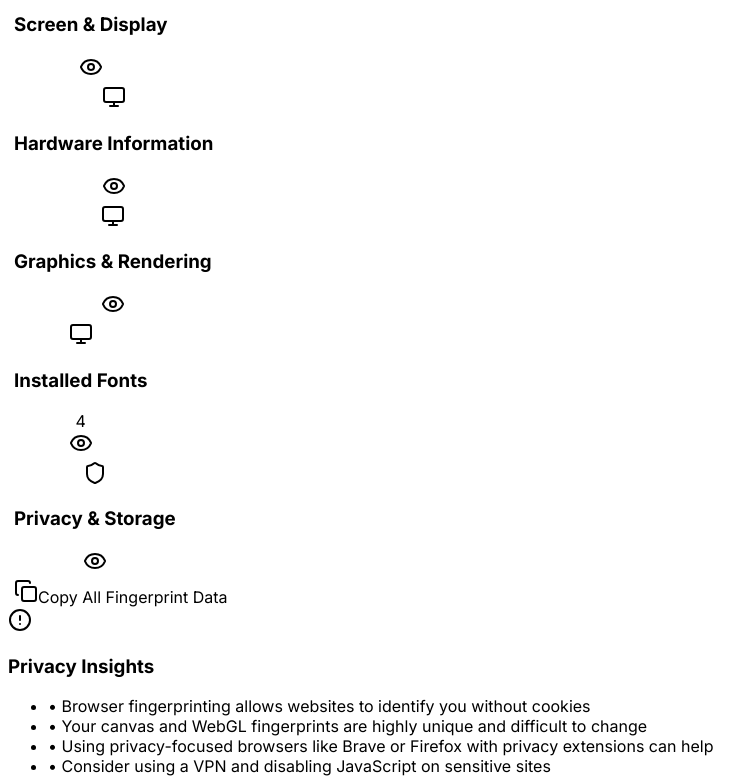
Scenario: Browser Fingerprint Page - Component Tests › should display fonts when section is expanded
The image size is (730, 777).
(page scrolled)
Check: the heading "Installed Fonts" is shown, box [14,369,147,392]
Click the button "Installed Fonts 4" at (81, 390), box [8,321,153,460]
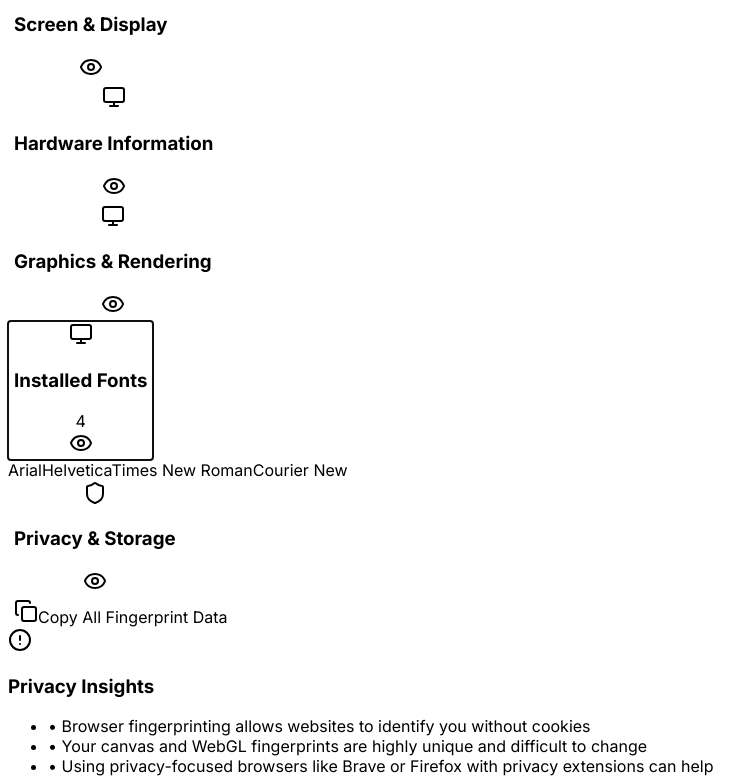
Check: the text "Arial" is shown, box [8,460,42,480]
Check: the text "Helvetica" is shown, box [42,460,112,480]
Check: the text "Times New Roman" is shown, box [111,460,253,480]
